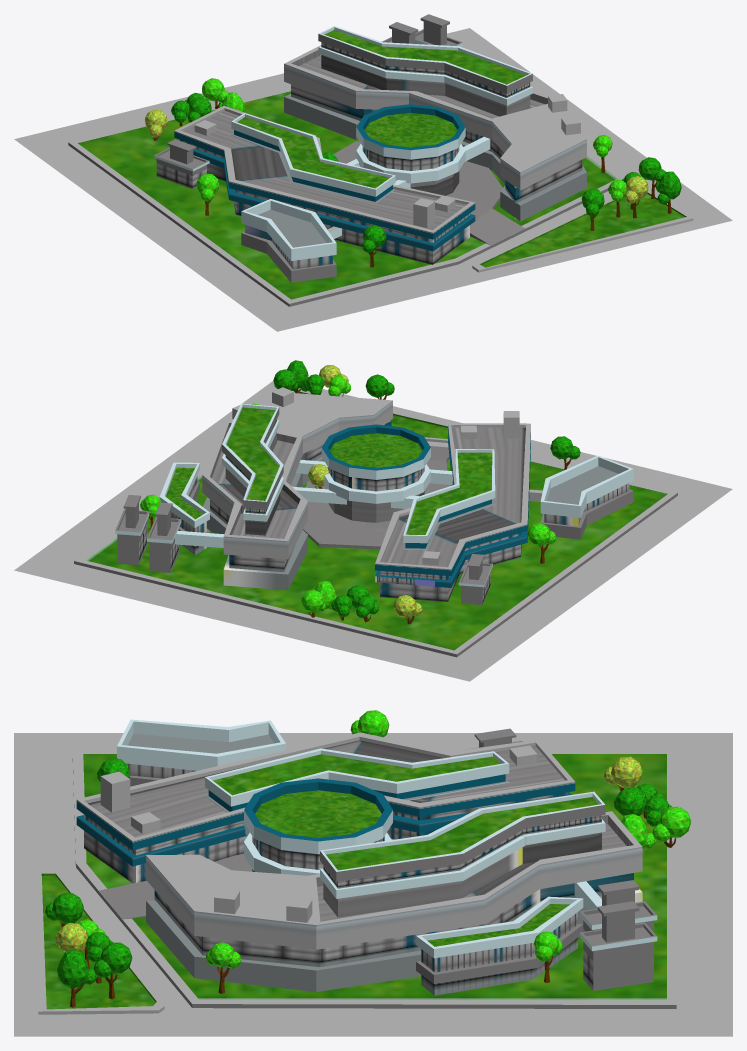
File: socialmedia_LV3.fbx
3 views of the same model, one above another, from view 1: azimuth 30°, elevation 25°; view 2: azimuth 150°, elevation 25°; view 3: azimuth 270°, elevation 25° (orthographic). The views are drawn at different scales.
Visible parts, largest first — view 1: social media lv3; view 2: social media lv3; view 3: social media lv3.
Part boxes in pixels (bbox=[...]): social media lv3: bbox=[14, 14, 732, 331]; social media lv3: bbox=[14, 360, 732, 681]; social media lv3: bbox=[14, 710, 732, 1036].
Size of the model in its own units: 200 by 35.27 by 200.
